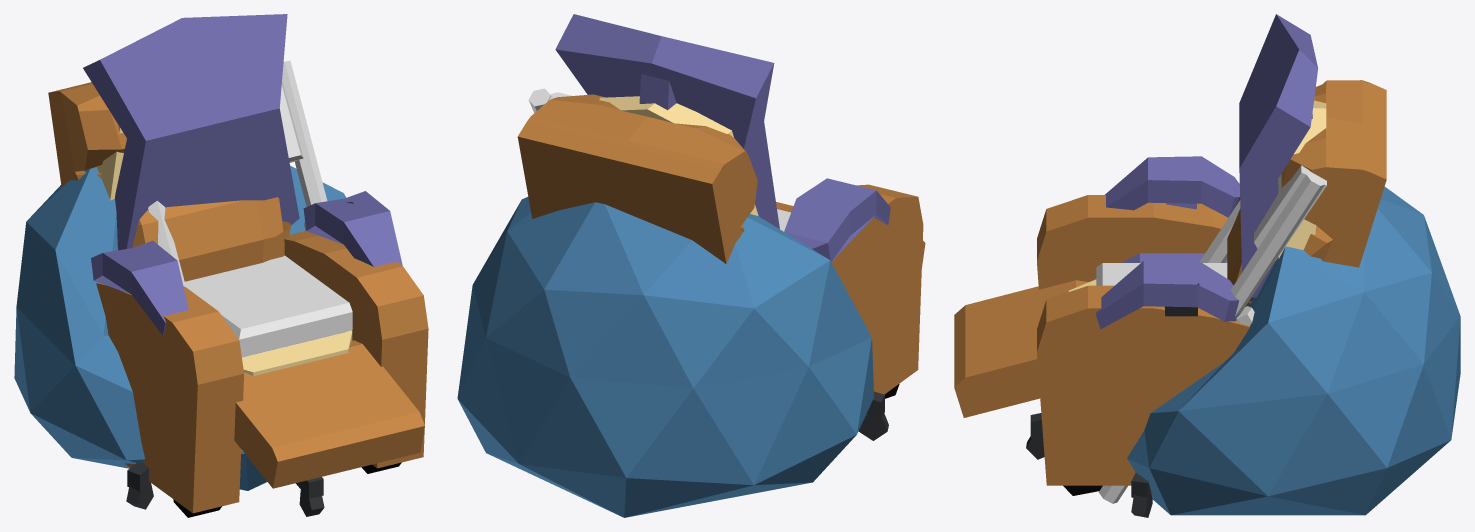
The model's file is foldingchair.glb.
3 views of the same model, side by side, from view 1: azimuth 30°, elevation 25°; view 2: azimuth 150°, elevation 25°; view 3: azimuth 270°, elevation 25° (orthographic). The views are drawn at different scales.
Visible parts, largest first — view 1: Ergonomique, Icosphere, Cube.012, Cube.008, Cube.010, Cube.011, Cube, Ergonomique.002, Ergonomique.003, Regular, Cylinder.006, Base Wheels (+2 smaller); view 2: Icosphere, Cube.010, Ergonomique, Cube.012, Ergonomique.002, Regular, Base Wheels; view 3: Icosphere, Cube.011, Cube.010, Ergonomique, Cube.012, Cube.008, Ergonomique.003, Ergonomique.002, Cylinder.006, Base Wheels, Cube.001, Regular (+3 smaller).
Boxes of the visible parts, x1,y1,x2,y2 form: Ergonomique: (83, 14, 299, 250); Icosphere: (14, 165, 346, 490); Cube.012: (96, 282, 243, 513); Cube.008: (234, 340, 424, 488); Cube.010: (48, 82, 290, 281); Cube.011: (284, 231, 428, 468); Cube: (185, 255, 352, 356); Ergonomique.002: (91, 240, 188, 335); Ergonomique.003: (303, 191, 402, 266); Regular: (97, 125, 352, 375); Cylinder.006: (282, 60, 327, 206); Base Wheels: (126, 463, 324, 516); Icosphere: (457, 197, 873, 517); Cube.010: (517, 94, 757, 263); Ergonomique: (555, 14, 779, 228); Cube.012: (831, 184, 923, 394); Ergonomique.002: (784, 178, 890, 261); Regular: (599, 96, 758, 215); Base Wheels: (858, 391, 888, 440); Icosphere: (1127, 187, 1460, 515); Cube.011: (1037, 285, 1249, 485); Cube.010: (1227, 80, 1386, 306); Ergonomique: (1239, 14, 1318, 301); Cube.012: (1037, 195, 1227, 289); Cube.008: (954, 280, 1088, 417); Ergonomique.003: (1095, 260, 1240, 329); Ergonomique.002: (1105, 156, 1239, 217); Cylinder.006: (1098, 173, 1324, 503); Base Wheels: (1026, 413, 1152, 517); Cube.001: (1254, 165, 1326, 260); Regular: (1068, 100, 1326, 291).
Bounding box in the file's own units: 5.42 × 6.17 × 6.95.
Materials: 3 (2 with a texture image).
